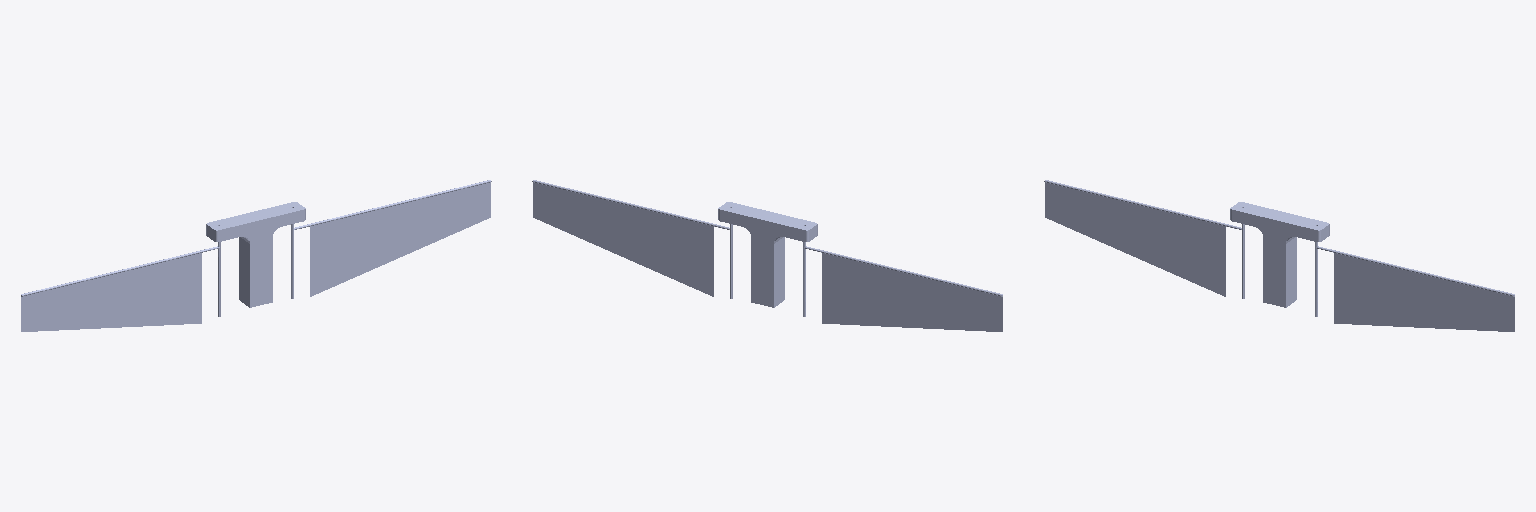
The robot description file, URDF, robot "flapper":
<robot name="flapper">
  <link name="torso">
    <inertial>
      <origin xyz="-3.39095744681197E-06               1.3039607029558E-08               -0.00023956863202956" rpy="0 0 0" />
      <mass value="0.00798" />
      <inertia ixx="6.65E-07" ixy="0.0001E-9" ixz="0.0001E-9" iyy="1.022E-06" iyz="0.0001E-9" izz="4.26E-07" />
    </inertial>
    <visual>
      <origin xyz="0 0 0" rpy="0 0 0" />
      <geometry>
        <mesh filename="./meshes/torso.STL" />
      </geometry>
      <material name="">
        <color rgba="0.792156862745098 0.819607843137255 0.933333333333333 1" />
      </material>
    </visual>
    <collision>
      <origin xyz="0 0 0" rpy="0 0 0" />
      <geometry>
        <mesh filename="./meshes/torso.STL" />
      </geometry>
    </collision>
  </link>
  <link name="left_wing_rod">
    <inertial>
      <origin xyz="0 0 0" rpy="0 0 0" />
      <mass value="0.0006062112259638999" />
      <inertia ixx="5.842142941965028e-08" ixy="0.0001E-9" ixz="-3.957474088691156e-08" iyy="6.352914352608075e-07" iyz="0.0001E-9" izz="6.046694805744028e-07" />
    </inertial>
    <visual>
      <origin xyz="0 0 0" rpy="0 0 0" />
      <geometry>
        <mesh filename="./meshes/left_wing_rod.STL" />
      </geometry>
      <material name="">
        <color rgba="0.792156862745098 0.819607843137255 0.933333333333333 1" />
      </material>
    </visual>
    <collision>
      <origin xyz="0 0 0" rpy="0 0 0" />
      <geometry>
        <mesh filename="./meshes/left_wing_rod.STL" />
      </geometry>
    </collision>
  </link>
  <joint name="left_Stroke_joint" type="continuous">
    <origin xyz="0.016247 0 0.0095033" rpy="0 0 0" />
    <parent link="torso" />
    <child link="left_wing_rod" />
    <axis xyz="0 0 1" />
  </joint>
  <link name="left_wing">
    <inertial>
      <origin xyz="0 0 0" rpy="0 0 0" />
      <mass value="7.518147568062195e-06" />
      <inertia ixx="1.8326857921943397e-10" ixy="0.0001E-9" ixz="-1.729645253614785e-09" iyy="3.310837765071537e-08" iyz="0.0001E-9" izz="3.292553941714803e-08" />
    </inertial>
    <visual>
      <origin xyz="0 0 0" rpy="0 0 0" />
      <geometry>
        <mesh filename="./meshes/left_wing.STL" />
      </geometry>
      <material name="">
        <color rgba="0.792156862745098 0.819607843137255 0.933333333333333 1" />
      </material>
    </visual>
    <collision>
      <origin xyz="0 0 0" rpy="0 0 0" />
      <geometry>
        <mesh filename="./meshes/left_wing.STL" />
      </geometry>
    </collision>
  </link>
  <joint name="left_rotate_joint" type="continuous">
    <origin xyz="0 0 -0.0057" rpy="0 0 0" />
    <parent link="left_wing_rod" />
    <child link="left_wing" />
    <axis xyz="1 0 0" />
  </joint>
  <link name="right_wing_rod">
    <inertial>
      <origin xyz="0 0 0" rpy="0 0 0" />
      <mass value="0.0006062112259638999" />
      <inertia ixx="5.842142941965028e-08" ixy="0.0001E-9" ixz="3.957474088691156e-08" iyy="6.352914352608075e-07" iyz="0.0001E-9" izz="6.046694805744028e-07" />
    </inertial>
    <visual>
      <origin xyz="0 0 0" rpy="0 0 0" />
      <geometry>
        <mesh filename="./meshes/right_wing_rod.STL" />
      </geometry>
      <material name="">
        <color rgba="0.792156862745098 0.819607843137255 0.933333333333333 1" />
      </material>
    </visual>
    <collision>
      <origin xyz="0 0 0" rpy="0 0 0" />
      <geometry>
        <mesh filename="./meshes/right_wing_rod.STL" />
      </geometry>
    </collision>
  </link>
  <joint name="right_stroke_joint" type="continuous">
    <origin xyz="-0.016253 0 0.0095033" rpy="0 0 0" />
    <parent link="torso" />
    <child link="right_wing_rod" />
    <axis xyz="0 0 1" />
  </joint>
  <link name="right_wing">
    <inertial>
      <origin xyz="0 0 0" rpy="0 0 0" />
      <mass value="7.518147568062195e-06" />
      <inertia ixx="1.8326857921943397e-10" ixy="0.0001E-9" ixz="1.729645253614785e-09" iyy="3.310837765071537e-08" iyz="0.0001E-9" izz="3.292553941714803e-08" />
    </inertial>
    <visual>
      <origin xyz="0 0 0" rpy="0 0 0" />
      <geometry>
        <mesh filename="./meshes/right_wing.STL" />
      </geometry>
      <material name="">
        <color rgba="0.792156862745098 0.819607843137255 0.933333333333333 1" />
      </material>
    </visual>
    <collision>
      <origin xyz="0 0 0" rpy="0 0 0" />
      <geometry>
        <mesh filename="./meshes/right_wing.STL" />
      </geometry>
    </collision>
  </link>
  <joint name="right_rotate_joint" type="continuous">
    <origin xyz="0 0 -0.0057" rpy="0 0 0" />
    <parent link="right_wing_rod" />
    <child link="right_wing" />
    <axis xyz="-1 0 0" />
  </joint>
</robot>

--- What the picture shows (computed from the rendered views, not written in the file) ---
Views: 3 orthographic renders of the robot side by side, from view 1: azimuth 30°, elevation 25°; view 2: azimuth 150°, elevation 25°; view 3: azimuth 330°, elevation 25°.
Model flapper with 5 links and 4 joints (4 continuous), rooted at torso, posed all joints at 0.
Links seen in each view (by area): view 1: left_wing, right_wing, torso, left_wing_rod, right_wing_rod; view 2: left_wing, right_wing, torso, left_wing_rod, right_wing_rod; view 3: left_wing, right_wing, torso, right_wing_rod, left_wing_rod.
Boxes of the visible links, x1,y1,x2,y2 form: left_wing: (310,182,490,296); right_wing: (21,253,201,331); torso: (206,202,305,307); left_wing_rod: (291,180,491,298); right_wing_rod: (21,242,220,316); left_wing: (533,182,713,296); right_wing: (822,253,1002,331); torso: (718,202,817,307); left_wing_rod: (532,180,732,298); right_wing_rod: (803,242,1002,316); left_wing: (1334,253,1514,331); right_wing: (1045,182,1225,296); torso: (1230,202,1329,307); right_wing_rod: (1044,180,1244,298); left_wing_rod: (1315,242,1514,316).
Size in the robot's own frame: 0.2075 by 0.008 by 0.0398 metres.
Meshes: 5 distinct files referenced, 5 mesh visuals loaded (5 binary STL).
